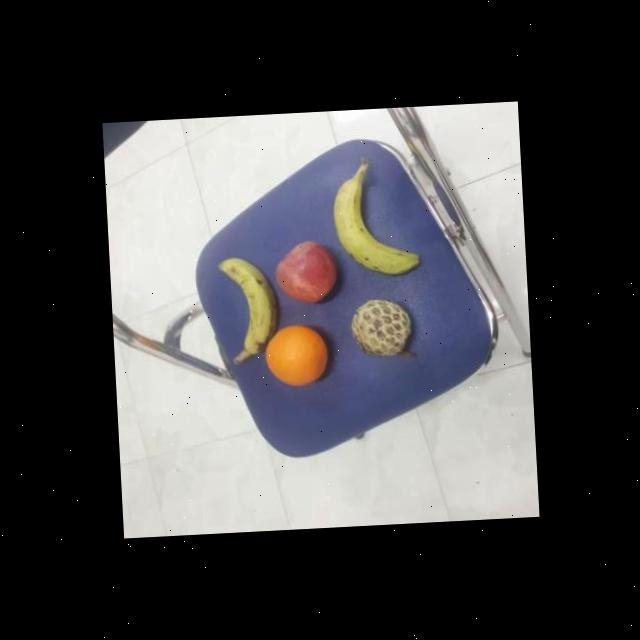Sakya fruit: (346, 296, 414, 362)
apple: (270, 235, 336, 306)
banana: (326, 172, 420, 280), (213, 254, 280, 358)
orange: (264, 323, 332, 389)
